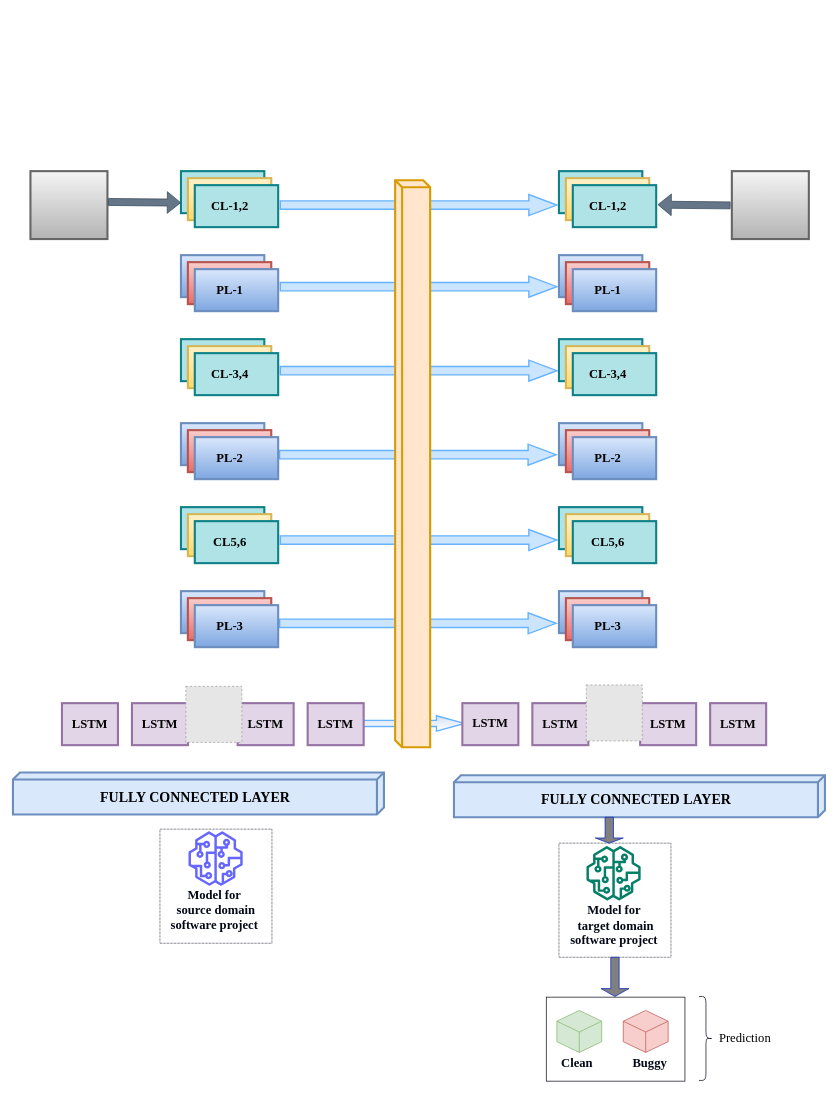
The diagram is 838 pixels wide and 1093 high, and some of its shapes have lost their labels. Grey dashed boxes stand in for pictures. The centre of each missing label's shape, as x and y in pixels:
"K N O W E L D G E T R A N S F E R" goes at pixel 412 463.
"TARGET DATA" goes at pixel 770 205.
"TRAINING DATA" goes at pixel 68 205.
